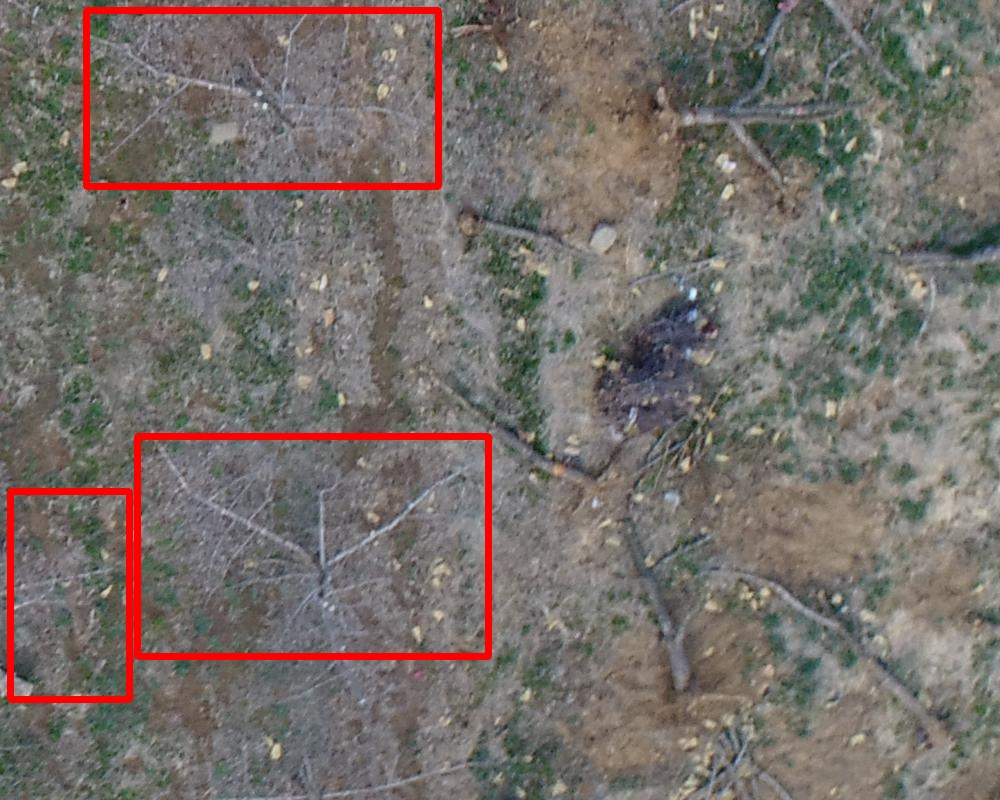apple: (137, 436, 488, 656), (86, 10, 438, 186), (10, 491, 129, 699)
